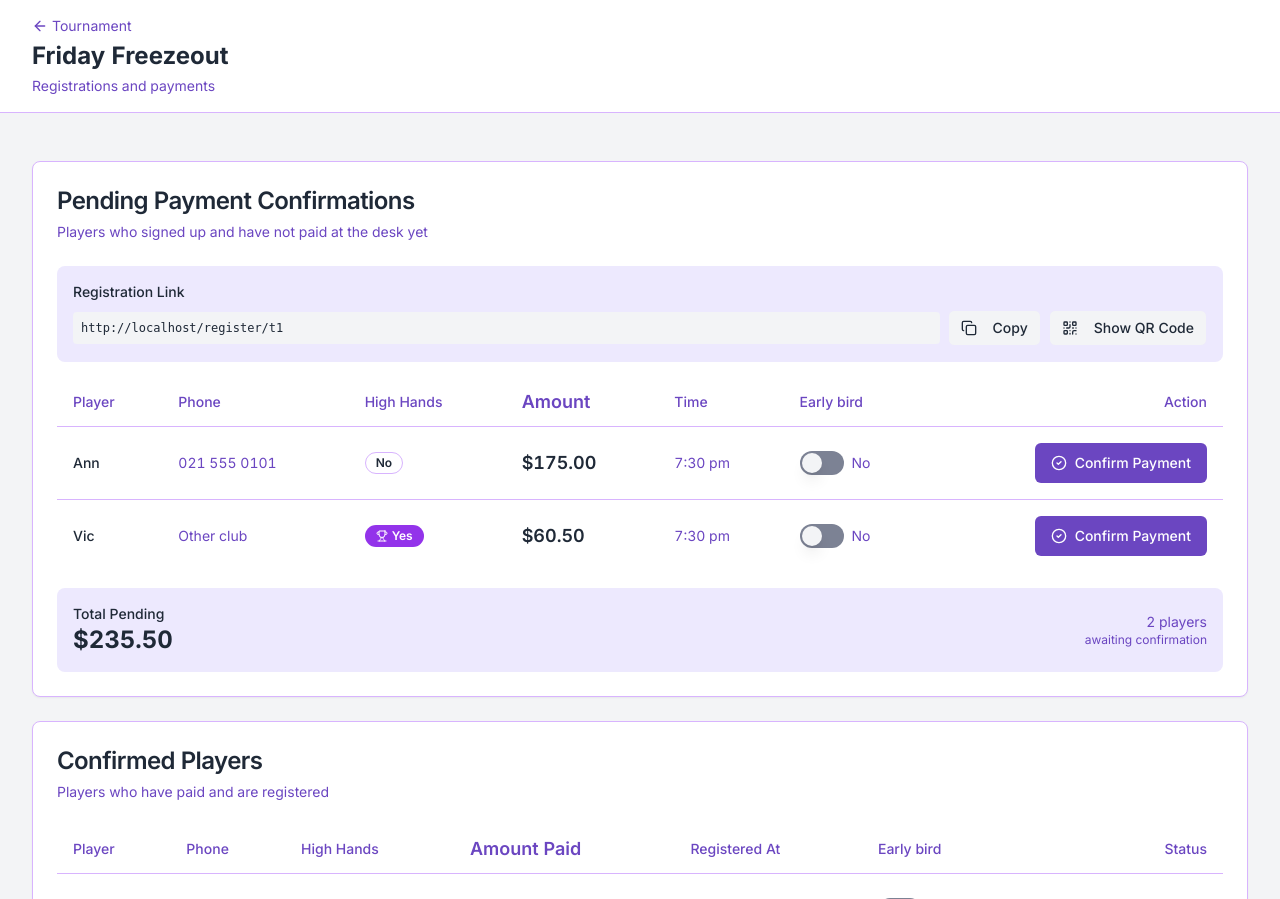
Test: AdminRegistrationsPage › says where automatic seating put a player once their payment is confirmed (round 5, once they've paid)
This screenshot has width=1280, height=899.
Click the button with test id "confirm-payment-r1" at (1121, 462), box [1035,442,1207,482]
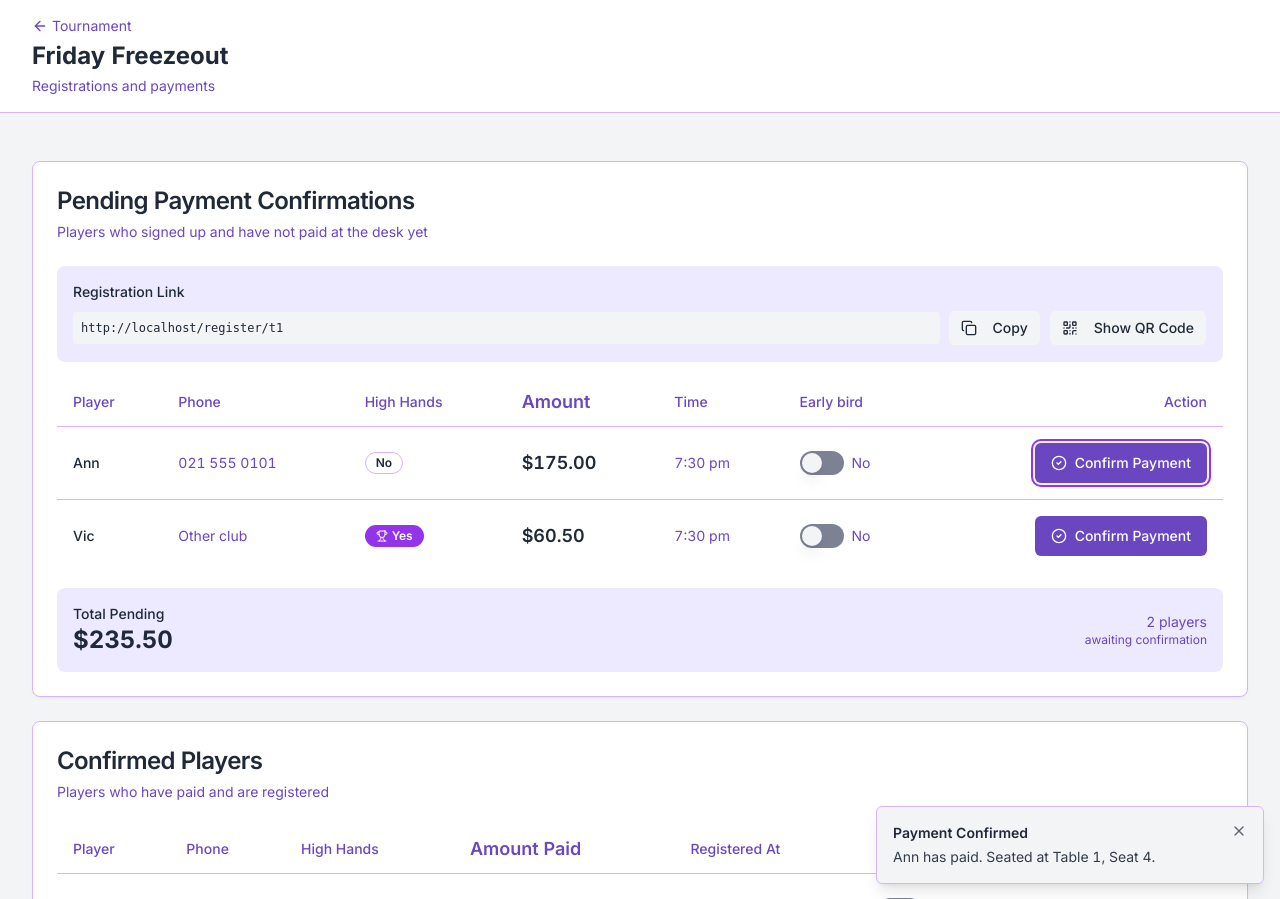
Now the text "Ann has paid. Seated at Table 1, Seat 4." is shown, box [893,848,1155,865]
